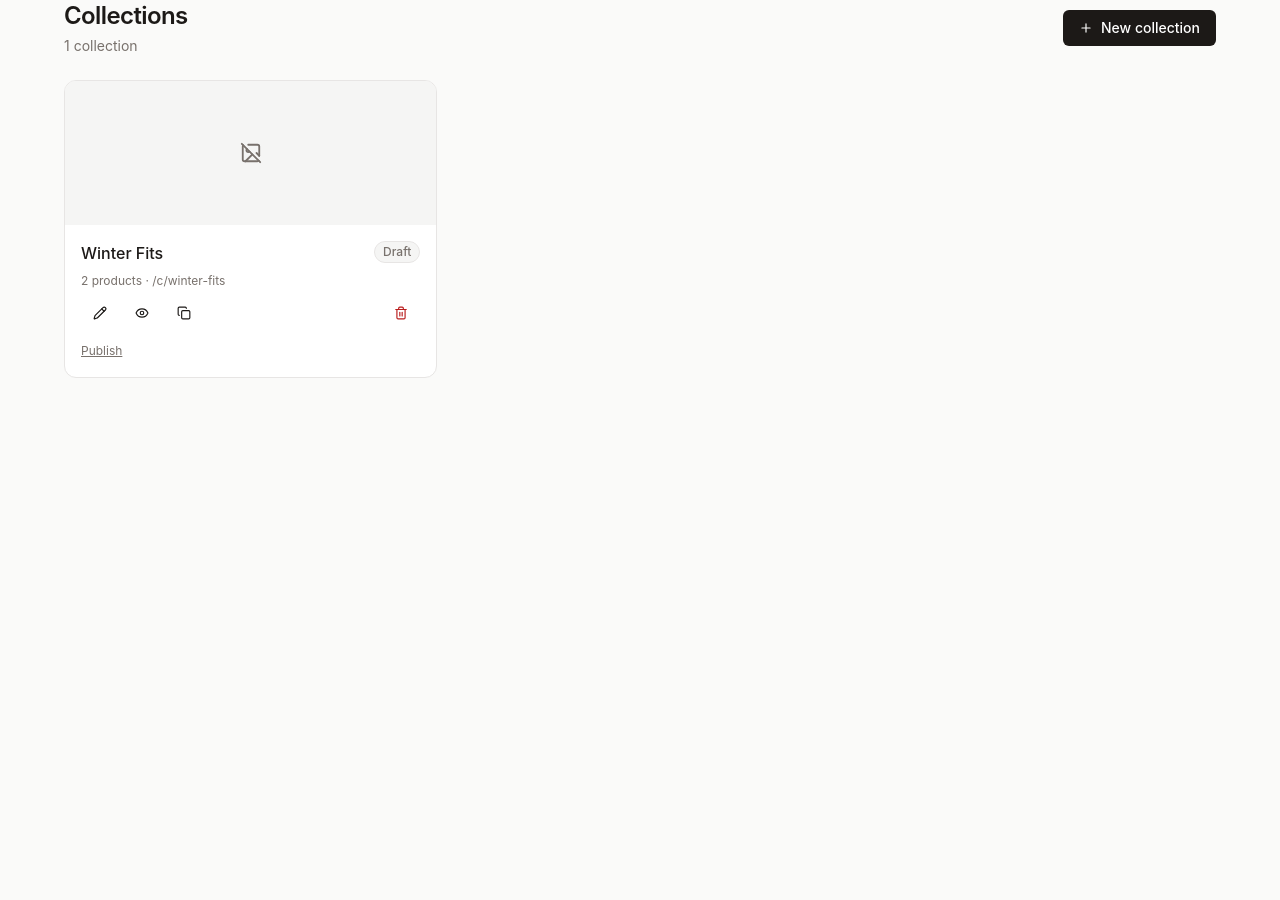
Test case: Collections page › shows the server's reason when saving fails and keeps the dialog open
The image size is (1280, 900).
Click the button named "Edit Winter Fits": (100, 313) [81,297,119,329]
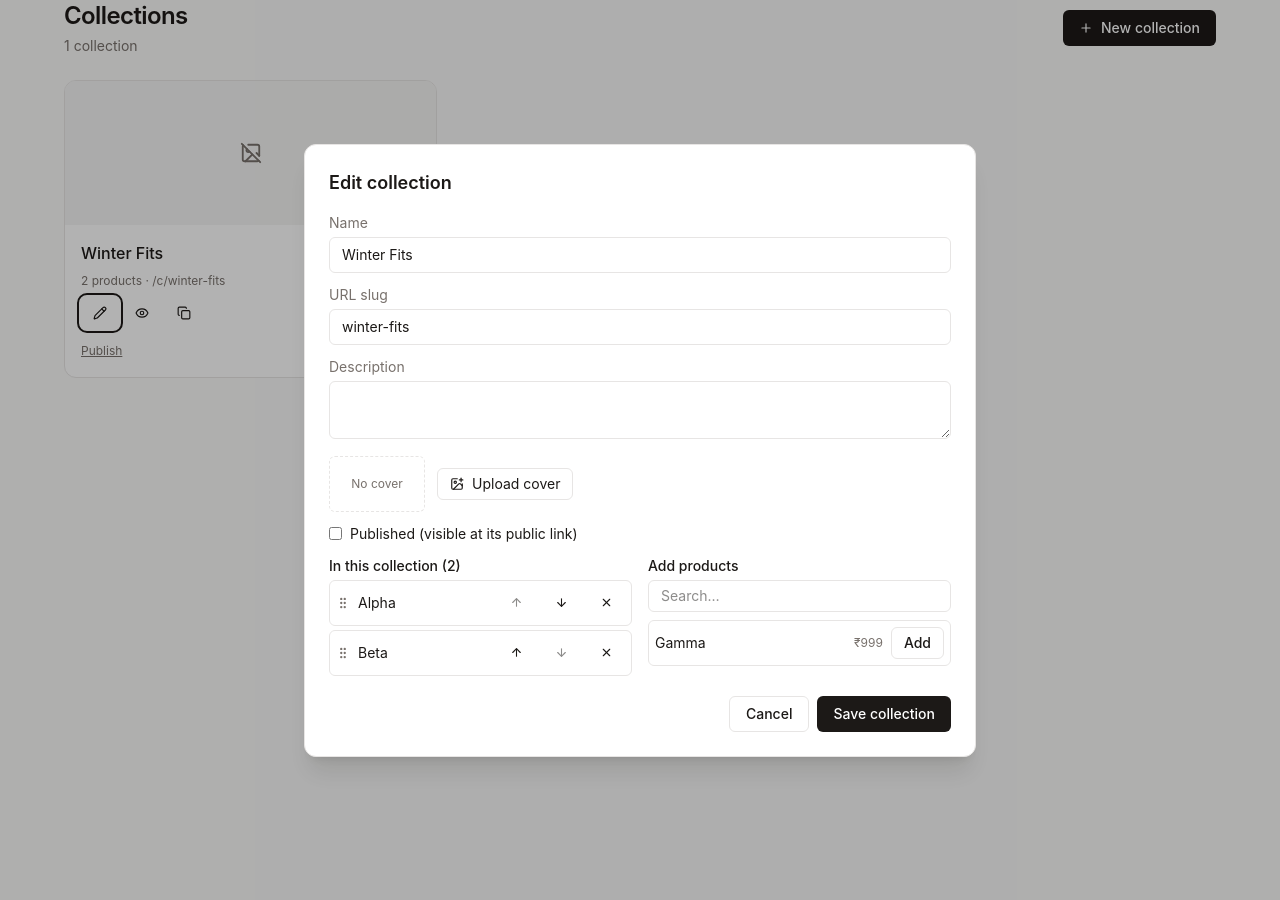
Click the button "Save collection": (884, 714) [817,696,951,732]
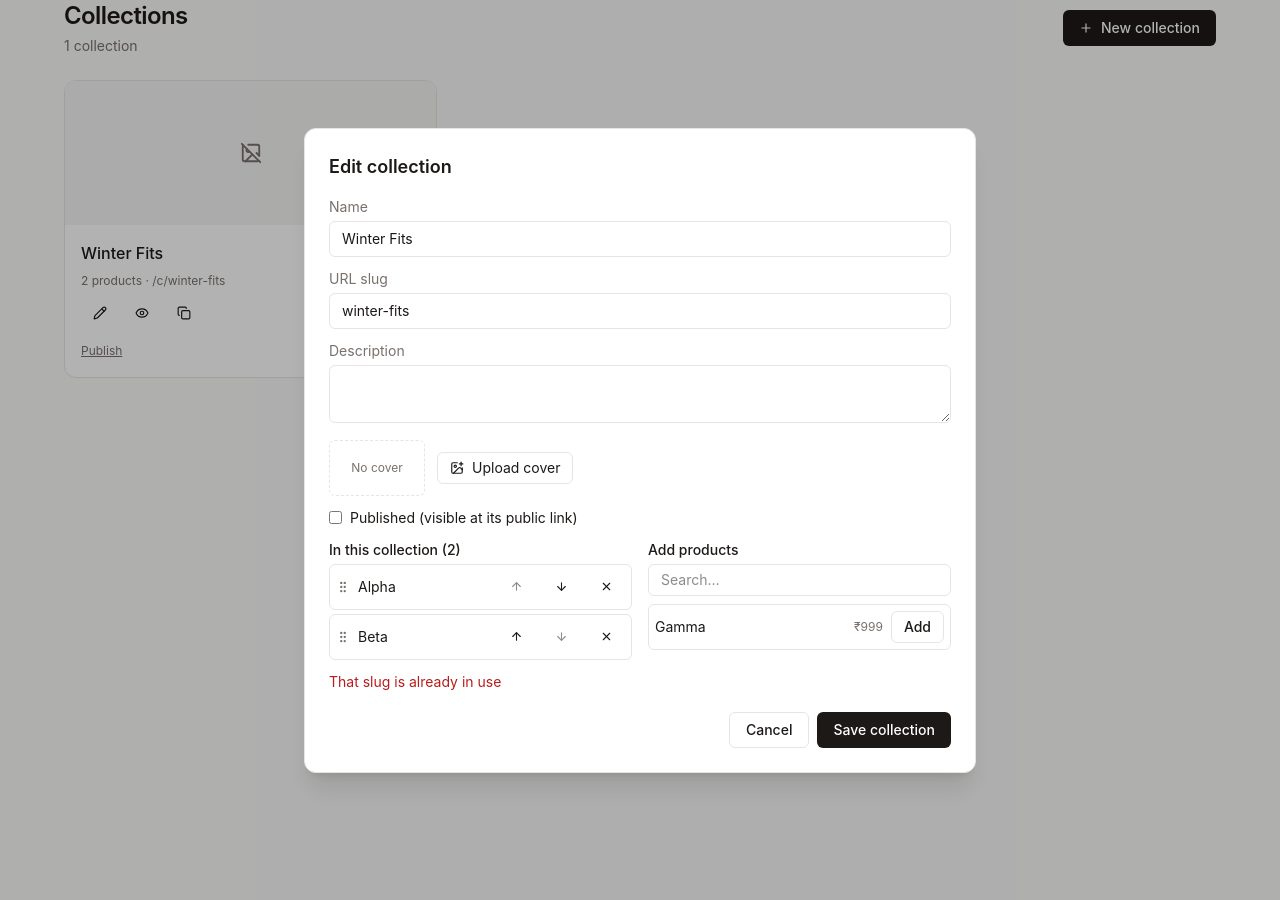
Expected: the message reads "That slug is already in use", [329,672,501,690]
